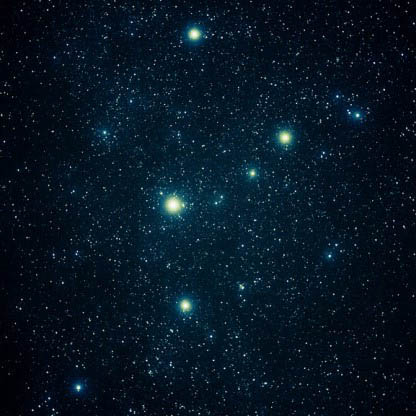Cassiopeia: (242, 122, 299, 187), (151, 183, 197, 230), (176, 15, 214, 55), (166, 287, 197, 318), (64, 370, 95, 400)
